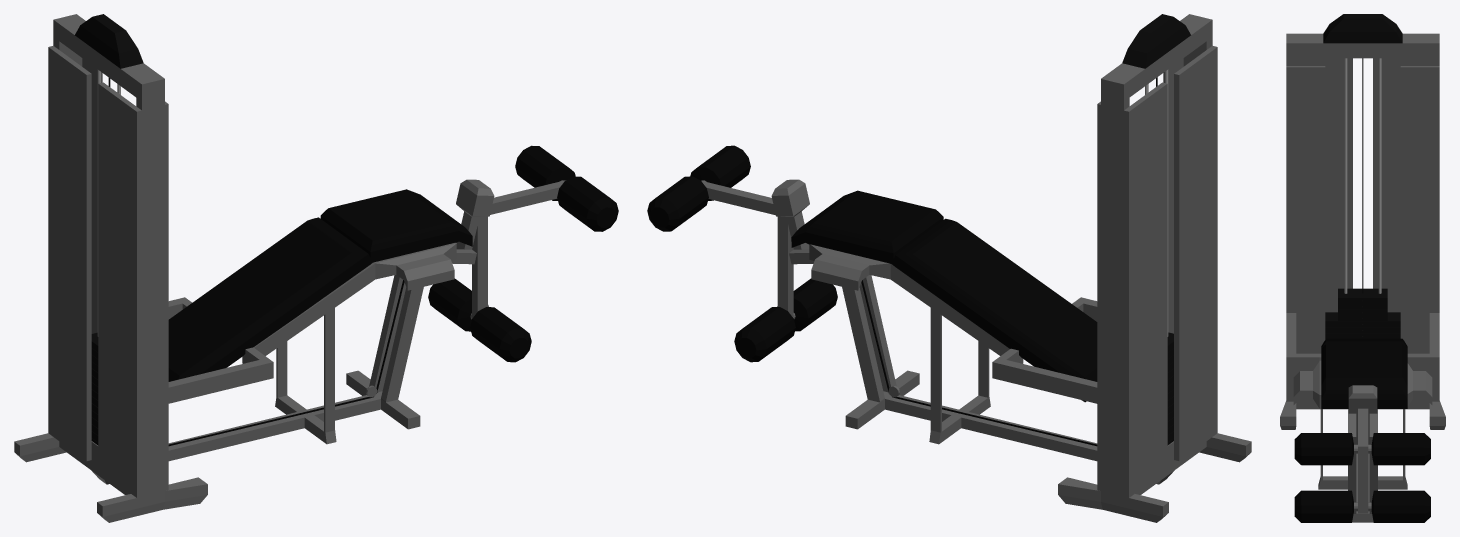
The model's file is LegCurlExtensionMachine.001.fbx.
The picture shows the model from 3 angles, left to right: view 1: azimuth 30°, elevation 25°; view 2: azimuth 150°, elevation 25°; view 3: azimuth 270°, elevation 25°; orthographic projection. The views are drawn at different scales.
Parts seen in each view (by area): view 1: LegCurlExtensionMachine.001; view 2: LegCurlExtensionMachine.001; view 3: LegCurlExtensionMachine.001.
Boxes of the visible parts, x1,y1,x2,y2 form: LegCurlExtensionMachine.001: (14, 14, 618, 522); LegCurlExtensionMachine.001: (647, 14, 1251, 522); LegCurlExtensionMachine.001: (1280, 14, 1445, 522).
Bounding box in the file's own units: 203 × 169 × 64.1.
